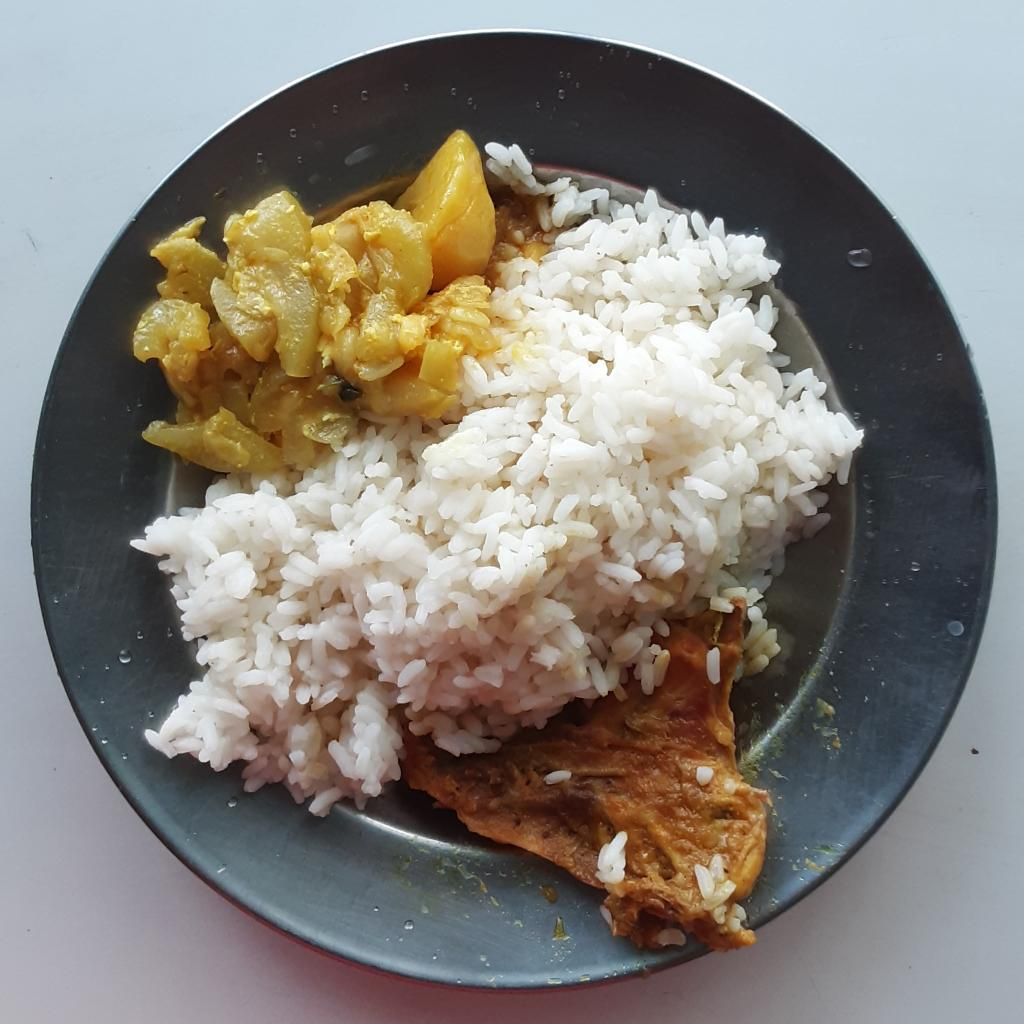fish: (405, 610, 770, 956)
lau: (134, 187, 491, 468)
potato: (394, 130, 495, 291)
rice: (127, 138, 866, 821)
